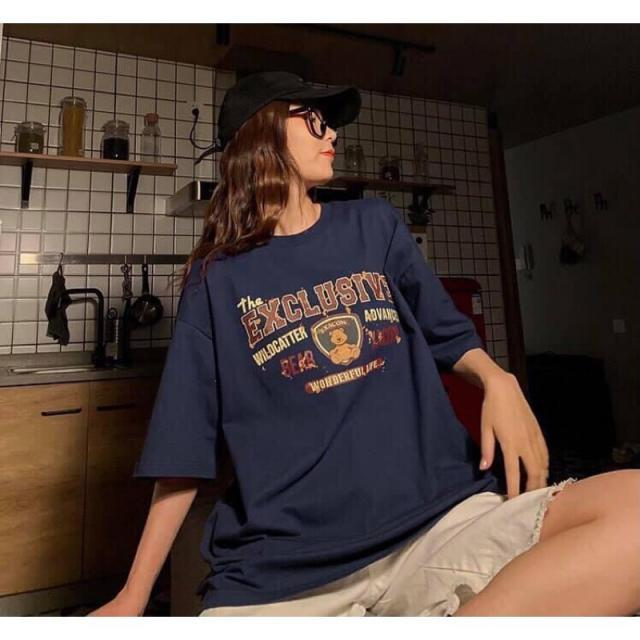Shirt: (128, 195, 502, 604)
